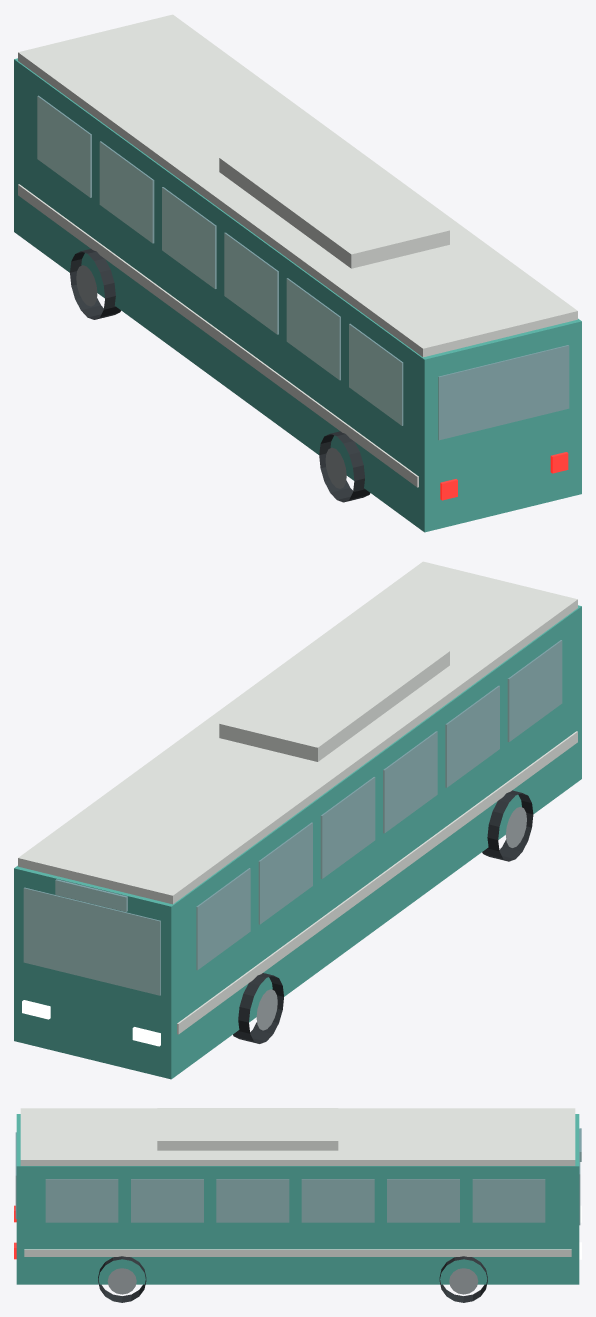
File: sunlight-bus.glb
3 renders of one model, top to bottom at view 1: azimuth 30°, elevation 25°; view 2: azimuth 150°, elevation 25°; view 3: azimuth 270°, elevation 25°, orthographic. The views are drawn at different scales.
Visible parts, largest first — view 1: ParkGo Bus; view 2: ParkGo Bus; view 3: ParkGo Bus.
Boxes of the visible parts, box(x1,y1,x2,y2) form: ParkGo Bus: box(14, 14, 581, 532); ParkGo Bus: box(14, 561, 581, 1079); ParkGo Bus: box(14, 1108, 581, 1302).
Bounding box in the file's own units: 2.84 × 3.27 × 11.31.
